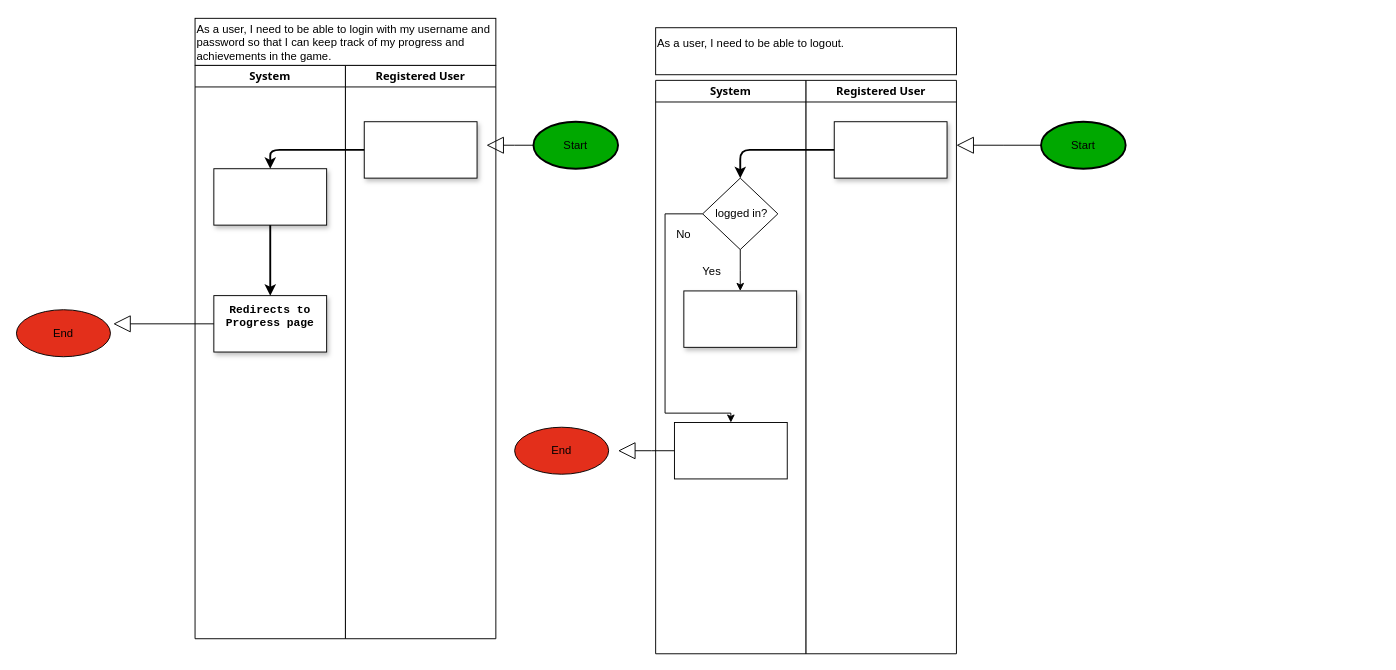
Image size: 1396x670. Some labels were removed from this diagram. Each missing label, with the centre of its shape:
Clicks the signout button: pixel 891 151
Enters in Username and Password: pixel 421 151
Redirects to Login Page: pixel 730 450
Redirects to Welcome Page: pixel 740 320
Validates: pixel 270 198
